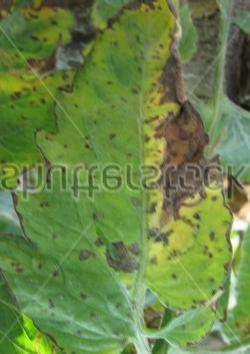Tomato leaf bacterial spot: (0, 0, 233, 354), (0, 0, 103, 192)
